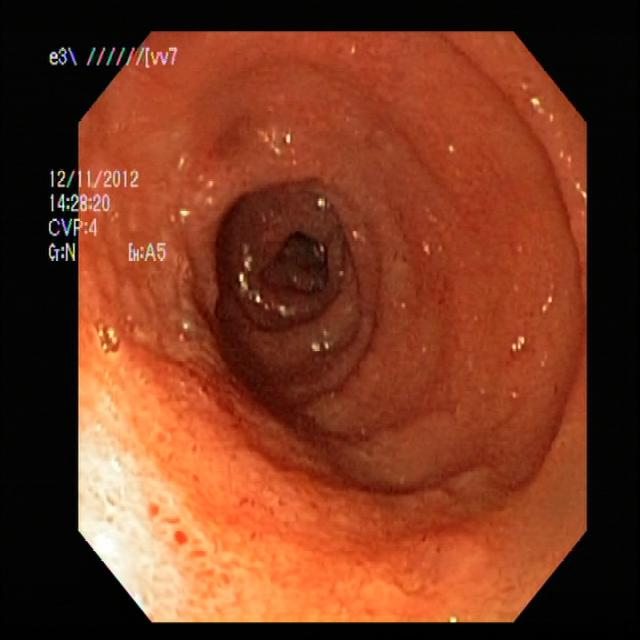ulcerative-colities: (81, 291, 414, 628)
